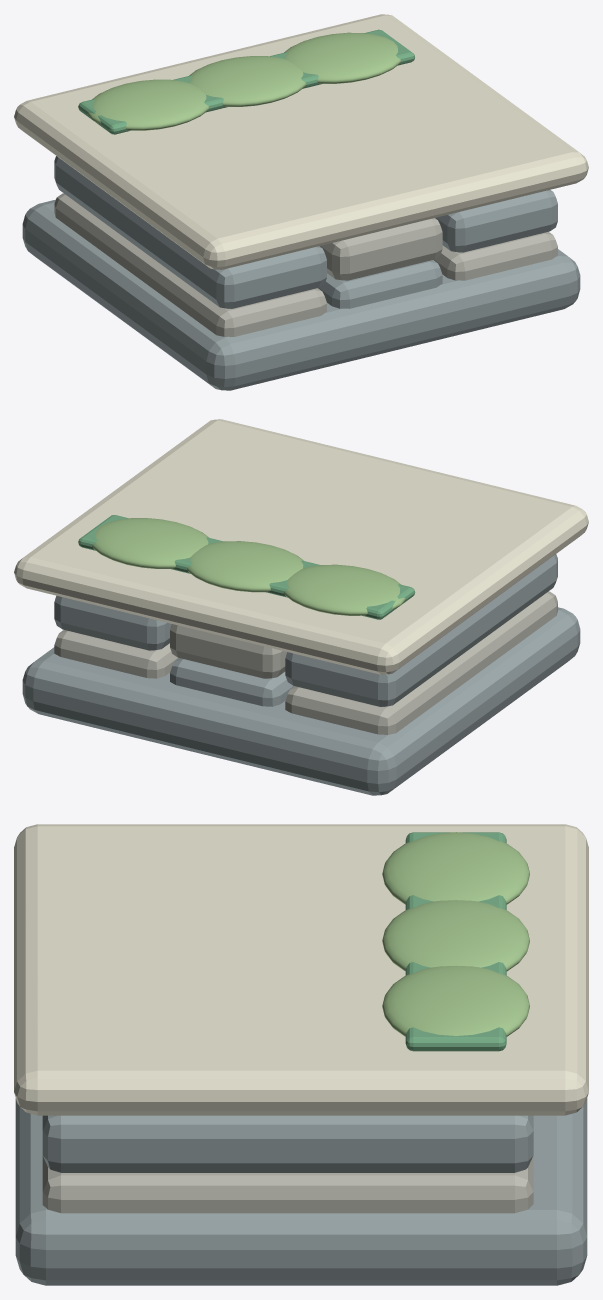
Rendered from city_wall.glb.
3 renders of one model, top to bottom at view 1: azimuth 30°, elevation 25°; view 2: azimuth 150°, elevation 25°; view 3: azimuth 270°, elevation 25°, orthographic. The views are drawn at different scales.
Visible parts, largest first — view 1: Batched City v2 smooth step edges, Batched City v2 warm grey retaining stone, Batched City v2 riverstone paving, Batched City v2 sunlit terrace leaves, Batched City v2 terrace leaves; view 2: Batched City v2 smooth step edges, Batched City v2 warm grey retaining stone, Batched City v2 riverstone paving, Batched City v2 sunlit terrace leaves, Batched City v2 terrace leaves; view 3: Batched City v2 smooth step edges, Batched City v2 warm grey retaining stone, Batched City v2 sunlit terrace leaves, Batched City v2 riverstone paving, Batched City v2 terrace leaves.
Part boxes in pixels (x1,y1,x2,y2): Batched City v2 smooth step edges: (14, 14, 588, 269); Batched City v2 warm grey retaining stone: (22, 156, 580, 390); Batched City v2 riverstone paving: (54, 193, 557, 336); Batched City v2 sunlit terrace leaves: (87, 32, 401, 130); Batched City v2 terrace leaves: (78, 29, 414, 134); Batched City v2 smooth step edges: (14, 419, 588, 674); Batched City v2 warm grey retaining stone: (22, 554, 580, 795); Batched City v2 riverstone paving: (54, 591, 557, 734); Batched City v2 sunlit terrace leaves: (92, 518, 405, 615); Batched City v2 terrace leaves: (78, 515, 415, 619); Batched City v2 smooth step edges: (14, 824, 588, 1115); Batched City v2 warm grey retaining stone: (15, 1098, 587, 1285); Batched City v2 sunlit terrace leaves: (382, 832, 529, 1046); Batched City v2 riverstone paving: (42, 1156, 533, 1213); Batched City v2 terrace leaves: (405, 832, 506, 1051).
Size of the model in its own units: 1.86 by 0.79 by 1.71.
